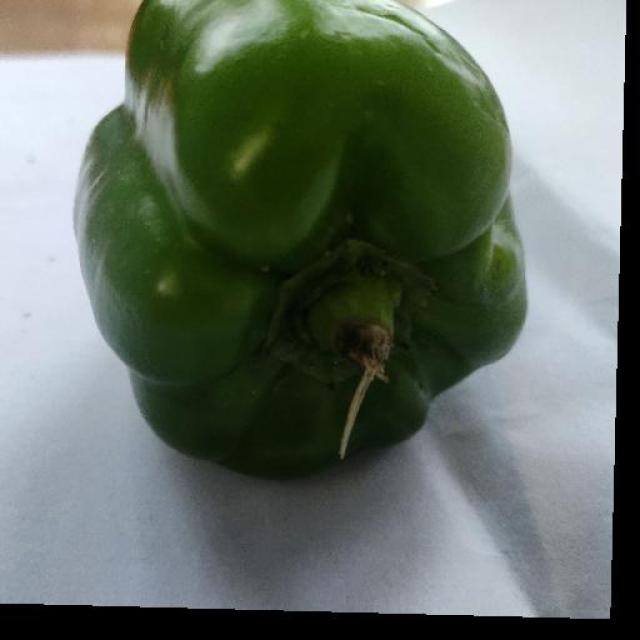Fresh_Capsicum: (177, 86, 485, 463)
